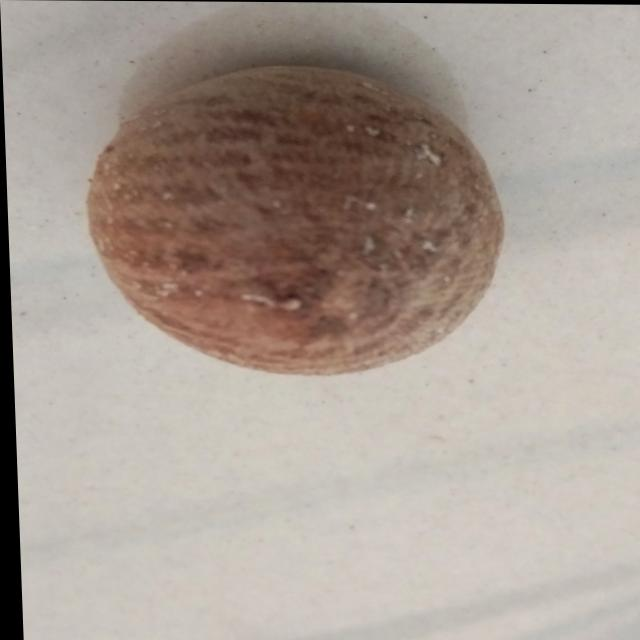good: (64, 76, 516, 394)
